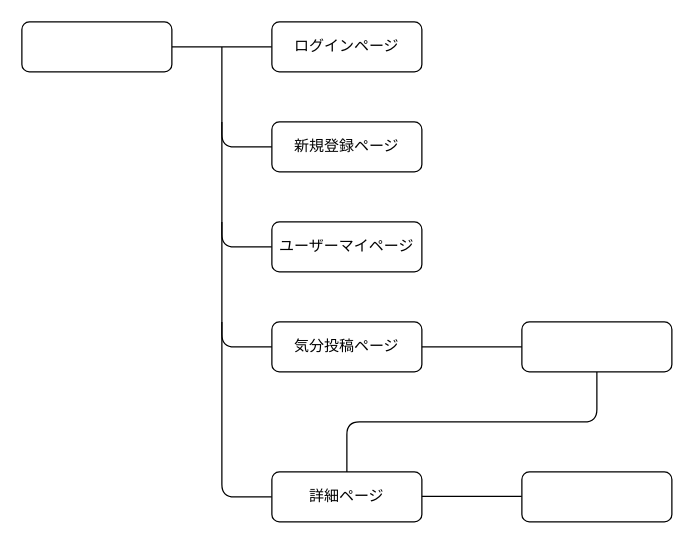
The diagram is 694 pixels wide and 544 high, and some of its shapes have lost their labels. Each missing label, with the centre of its shape:
タスク投稿ページ: point (596, 346)
一覧ページ: point (96, 46)
編集ページ: point (596, 496)
